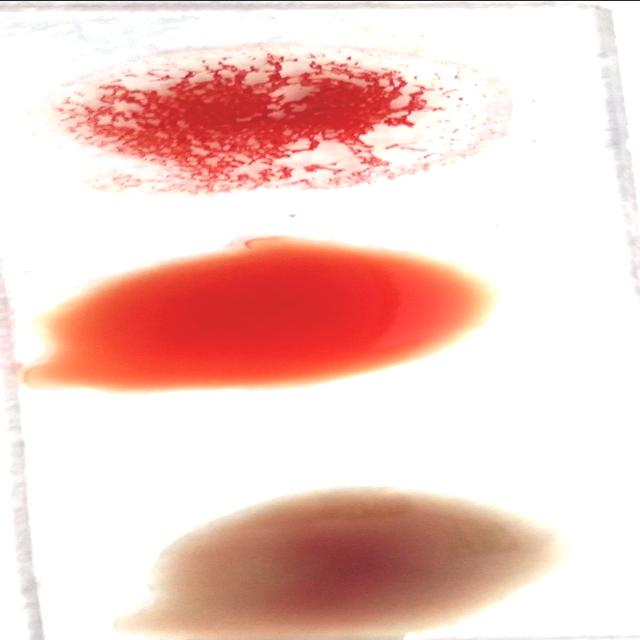D: (66, 45, 506, 185)
